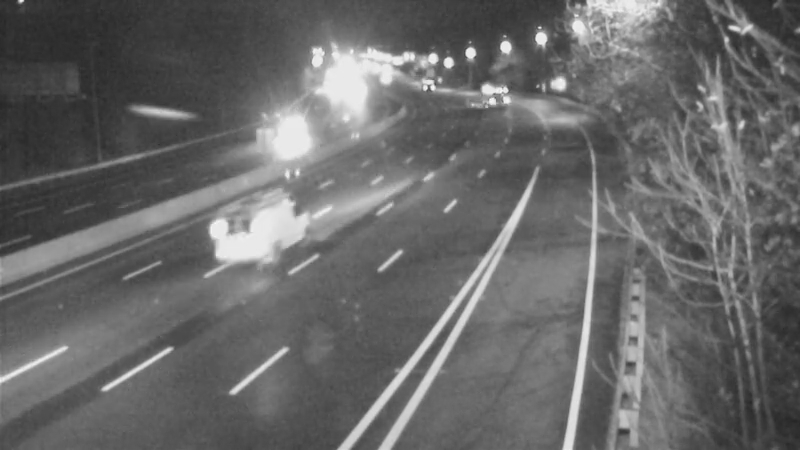vehicle: (214, 189, 294, 269), (461, 70, 511, 120), (263, 110, 313, 160)
